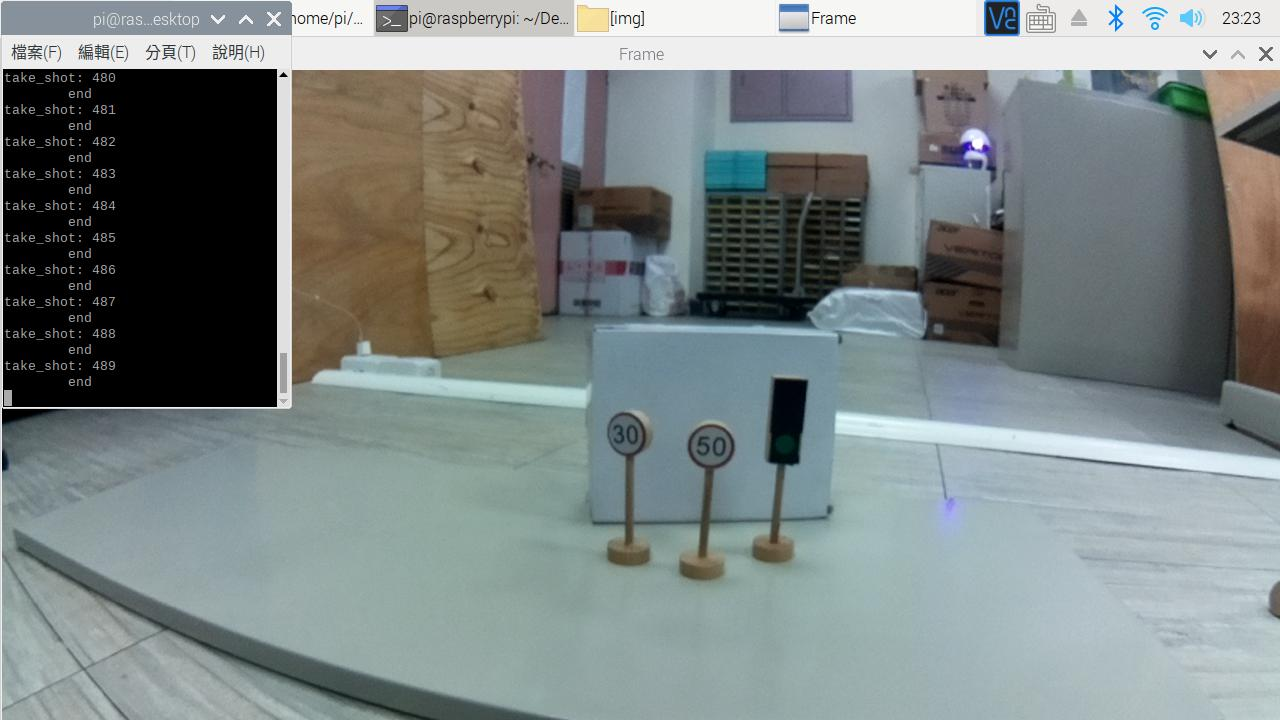Green: (755, 365, 811, 473)
Speed30: (599, 405, 657, 459)
Speed50: (677, 416, 746, 475)
